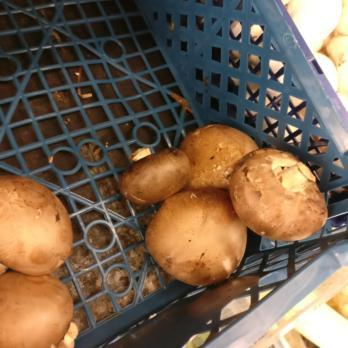Mushroom: (118, 118, 332, 287), (0, 171, 79, 348)
